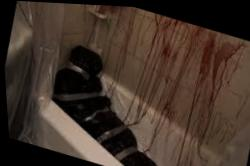Fire: (116, 10, 246, 166)
